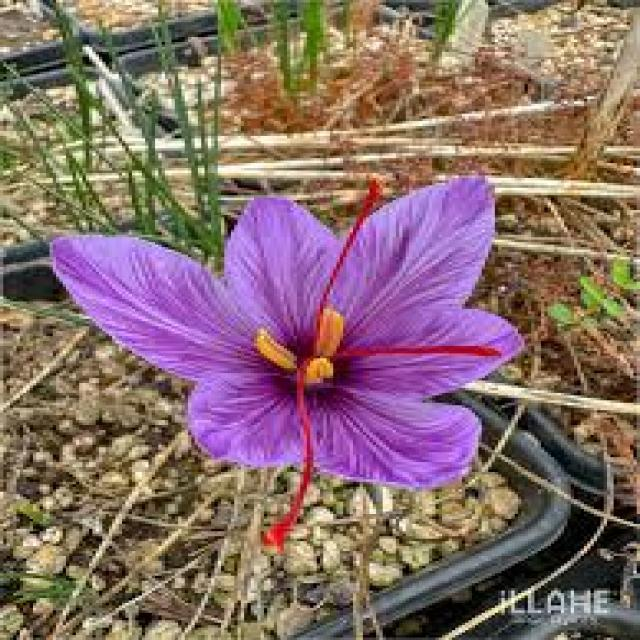Flower: (16, 167, 523, 524)
stigma: (312, 176, 380, 324), (264, 382, 318, 551), (344, 337, 506, 361)
